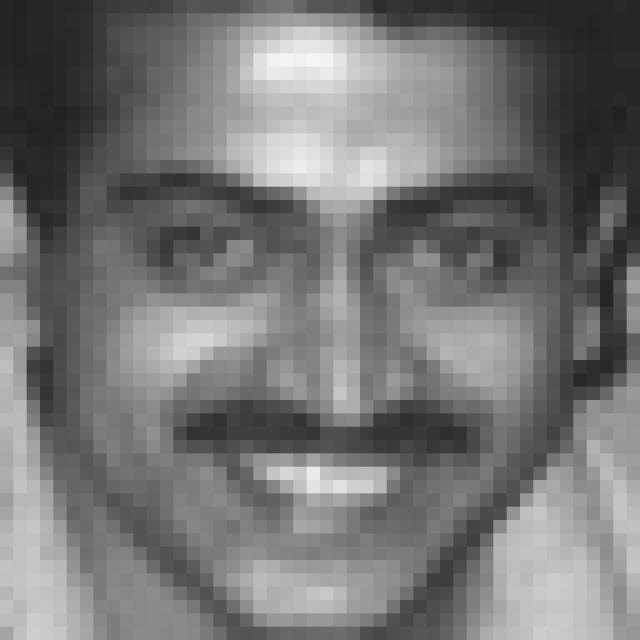happy: (112, 158, 547, 559)
